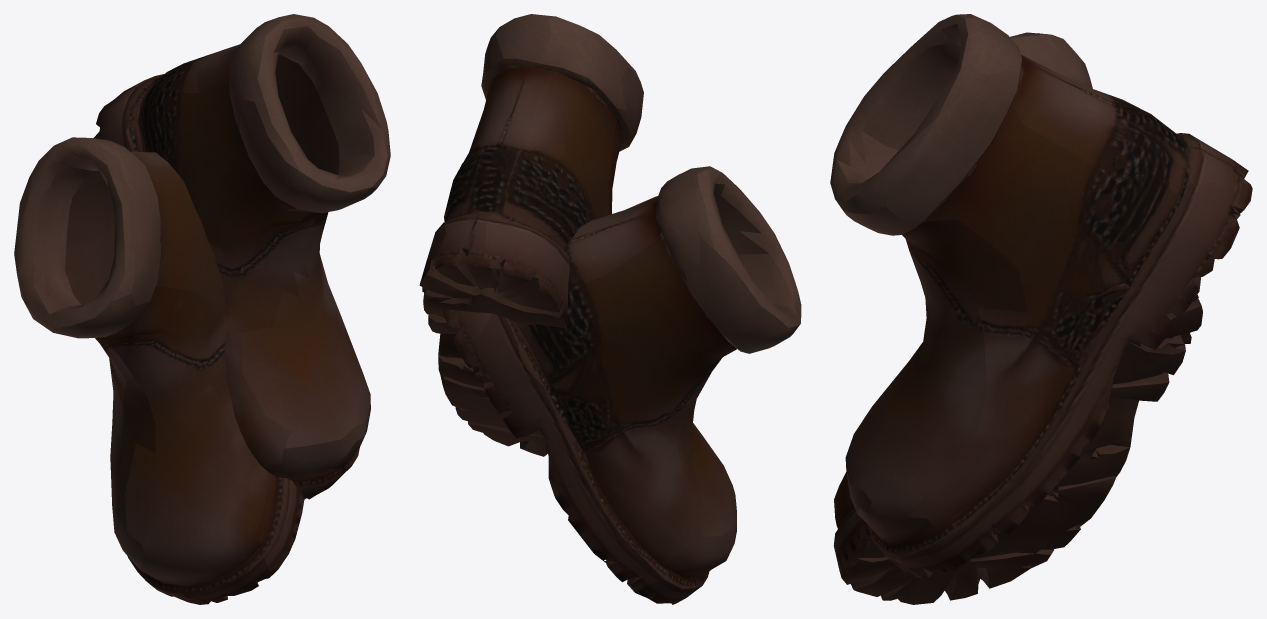
File: shoes_registered.glb
3 renders of one model, left to right at view 1: azimuth 30°, elevation 25°; view 2: azimuth 150°, elevation 25°; view 3: azimuth 270°, elevation 25°, orthographic. The views are drawn at different scales.
Parts seen in each view (by area): view 1: RBX_LC_shoes; view 2: RBX_LC_shoes; view 3: RBX_LC_shoes.
Boxes of the visible parts, <box> form: RBX_LC_shoes: <box>14,14,390,604</box>; RBX_LC_shoes: <box>419,14,801,604</box>; RBX_LC_shoes: <box>830,14,1252,604</box>.
Bounding box in the file's own units: 0.4858 × 0.7906 × 0.4664.
1 material, 1 textured.
